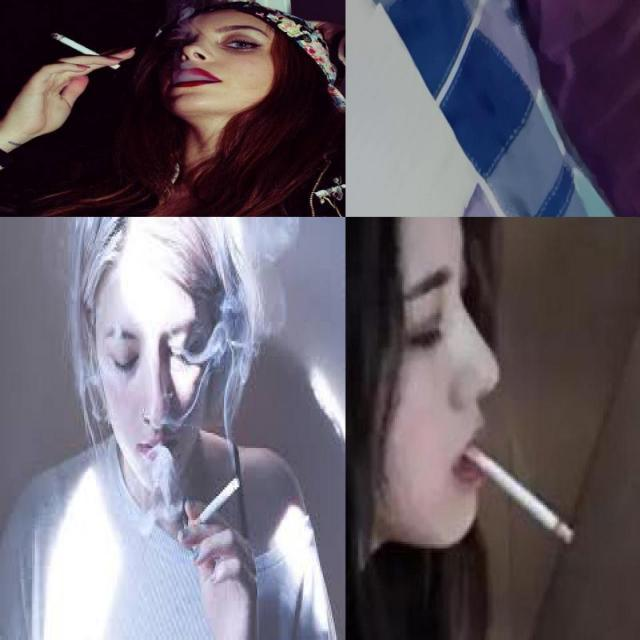smoke: (444, 430, 588, 552), (44, 31, 120, 71), (186, 478, 240, 534)
